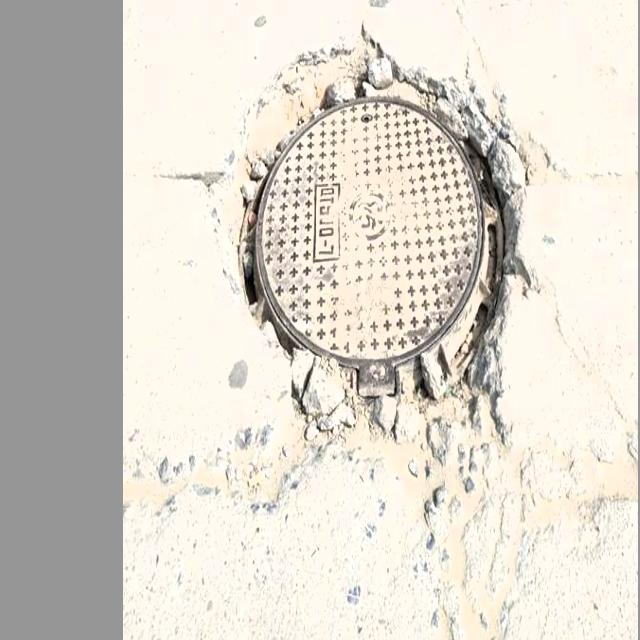circle: (198, 28, 549, 455)
